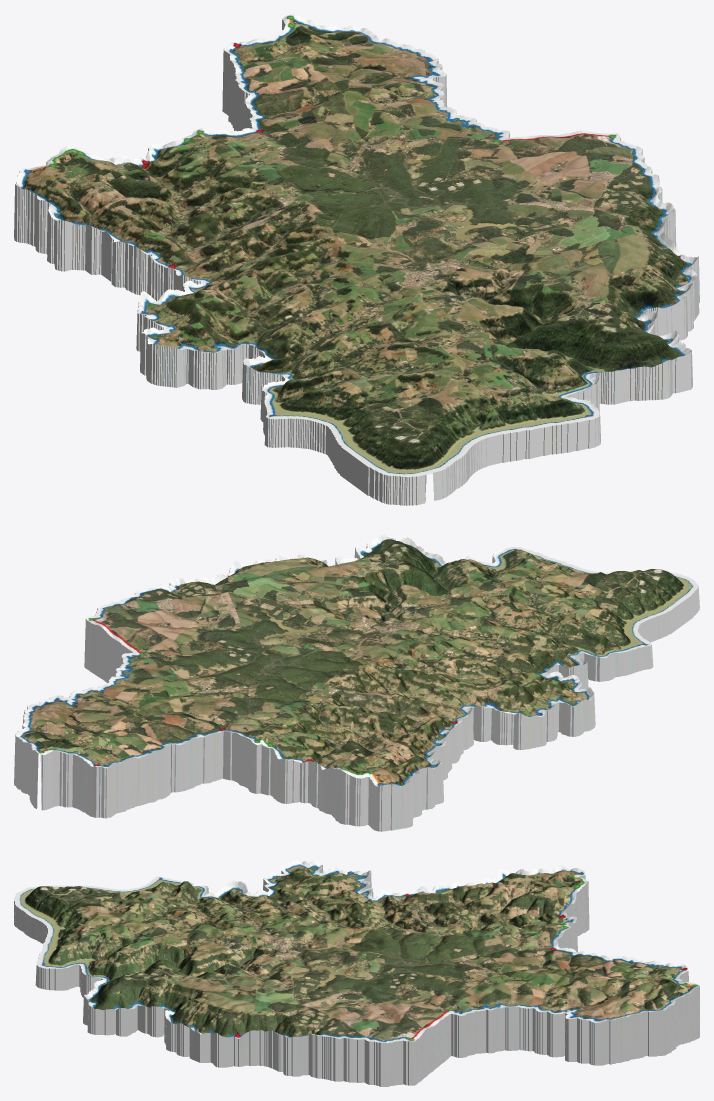
3 renders of one model, top to bottom at view 1: azimuth 30°, elevation 25°; view 2: azimuth 150°, elevation 25°; view 3: azimuth 270°, elevation 25°, orthographic. The views are drawn at different scales.
Size of the model in its own units: 1 by 0.1222 by 1.46.
1 material, 1 textured.
